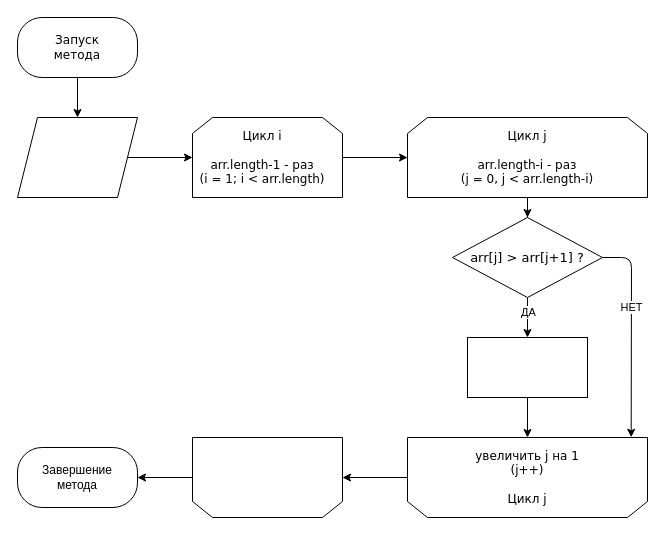
Image size: 665x535. Some labels were removed from this diagram. The shapes that lost their labels are listed below. From the top down, each one's centre as x and y in pixels, then its label:
At point (77, 157): "Считываем массив arr".
At point (527, 367): "int a = arr[j]; arr[j] = arr[j+1]; arr[j+1] = a;".
At point (267, 477): "увеличить i на 1 (i++) Цикл i".
